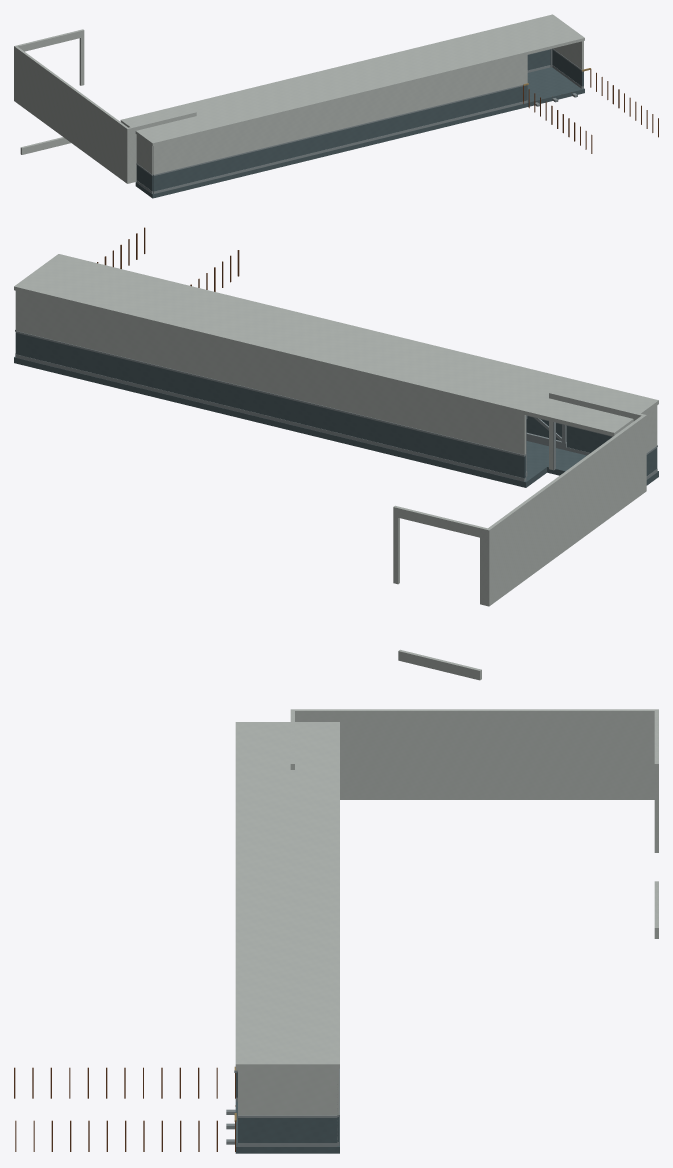
The model's file is QUIET_D13_STAFF_RECEIVING_r001.glb.
3 renders of one model, top to bottom at view 1: azimuth 30°, elevation 25°; view 2: azimuth 150°, elevation 25°; view 3: azimuth 270°, elevation 25°, orthographic. The views are drawn at different scales.
Parts seen in each view (by area): view 1: Q13_Canopy, Q13_Edge1_Enamel, PATCH_lobby_wall_staff_white_paint_y10, Q13_Edge1_Dado, Q13_MissingFloor, Q13_Edge1_Toe, PATCH_QG_Batch_178, Q13_Edge1_Reveal, Q13_Edge3_Enamel, Q13_Edge2_Dado, Q13_Edge2_Enamel, Q13_Edge0_Dado; view 2: Q13_Canopy, Q13_Edge0_Enamel, PATCH_lobby_wall_staff_white_paint_y10, Q13_Edge0_Dado, Q13_MissingFloor, Q13_Edge0_Toe, Q13_Edge0_Reveal, Q13_Edge1_Dado; view 3: Q13_Canopy, PATCH_lobby_wall_staff_white_paint_y10, Q13_Edge2_Enamel, Q13_Edge2_Dado, PATCH_QG_Batch_178, Q13_MissingFloor.
Boxes of the visible parts, bbox=[...] form: Q13_Canopy: bbox=[120, 14, 584, 145]; Q13_Edge1_Enamel: bbox=[153, 54, 527, 174]; PATCH_lobby_wall_staff_white_paint_y10: bbox=[14, 29, 196, 183]; Q13_Edge1_Dado: bbox=[153, 85, 527, 191]; Q13_MissingFloor: bbox=[135, 67, 584, 198]; Q13_Edge1_Toe: bbox=[153, 100, 527, 193]; PATCH_QG_Batch_178: bbox=[523, 69, 658, 153]; Q13_Edge1_Reveal: bbox=[153, 84, 523, 175]; Q13_Edge3_Enamel: bbox=[136, 135, 153, 174]; Q13_Edge2_Dado: bbox=[552, 50, 583, 86]; Q13_Edge2_Enamel: bbox=[553, 41, 583, 69]; Q13_Edge0_Dado: bbox=[527, 49, 550, 70]; Q13_Canopy: bbox=[14, 254, 658, 436]; Q13_Edge0_Enamel: bbox=[16, 291, 525, 454]; PATCH_lobby_wall_staff_white_paint_y10: bbox=[393, 392, 646, 680]; Q13_Edge0_Dado: bbox=[16, 333, 525, 478]; Q13_MissingFloor: bbox=[14, 356, 658, 487]; Q13_Edge0_Toe: bbox=[16, 354, 526, 481]; Q13_Edge0_Reveal: bbox=[15, 331, 526, 456]; Q13_Edge1_Dado: bbox=[526, 416, 611, 452]; Q13_Canopy: bbox=[235, 722, 339, 1068]; PATCH_lobby_wall_staff_white_paint_y10: bbox=[290, 709, 658, 938]; Q13_Edge2_Enamel: bbox=[238, 1068, 337, 1115]; Q13_Edge2_Dado: bbox=[238, 1118, 337, 1142]; PATCH_QG_Batch_178: bbox=[14, 1067, 235, 1151]; Q13_MissingFloor: bbox=[235, 1099, 339, 1153].
Bounding box in the file's own units: 27.27 × 6.4 × 21.02.
Materials: 9 (8 with a texture image).
